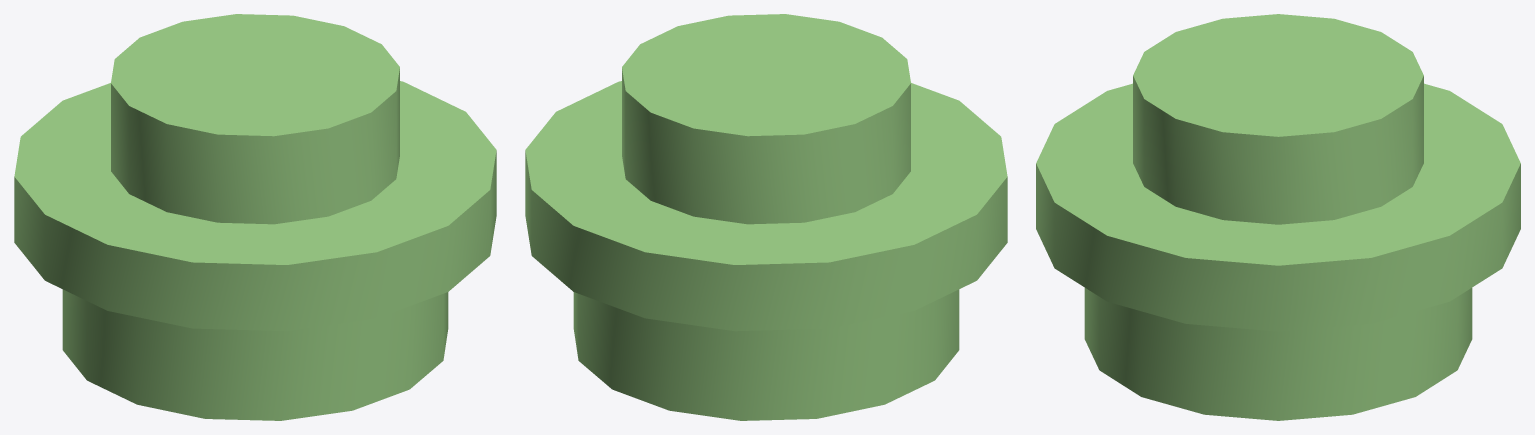
The model's file is Green_Stud_Final.fbx.
The picture shows the model from 3 angles, left to right: view 1: azimuth 30°, elevation 25°; view 2: azimuth 150°, elevation 25°; view 3: azimuth 270°, elevation 25°; orthographic projection.
Visible parts, largest first — view 1: Green_Stud; view 2: Green_Stud; view 3: Green_Stud.
Boxes of the visible parts, left/top/right/bottom form: Green_Stud: left=14, top=14, right=496, bottom=420; Green_Stud: left=525, top=14, right=1007, bottom=420; Green_Stud: left=1036, top=14, right=1520, bottom=420.
Size of the model in its own units: 200 by 120 by 200.
